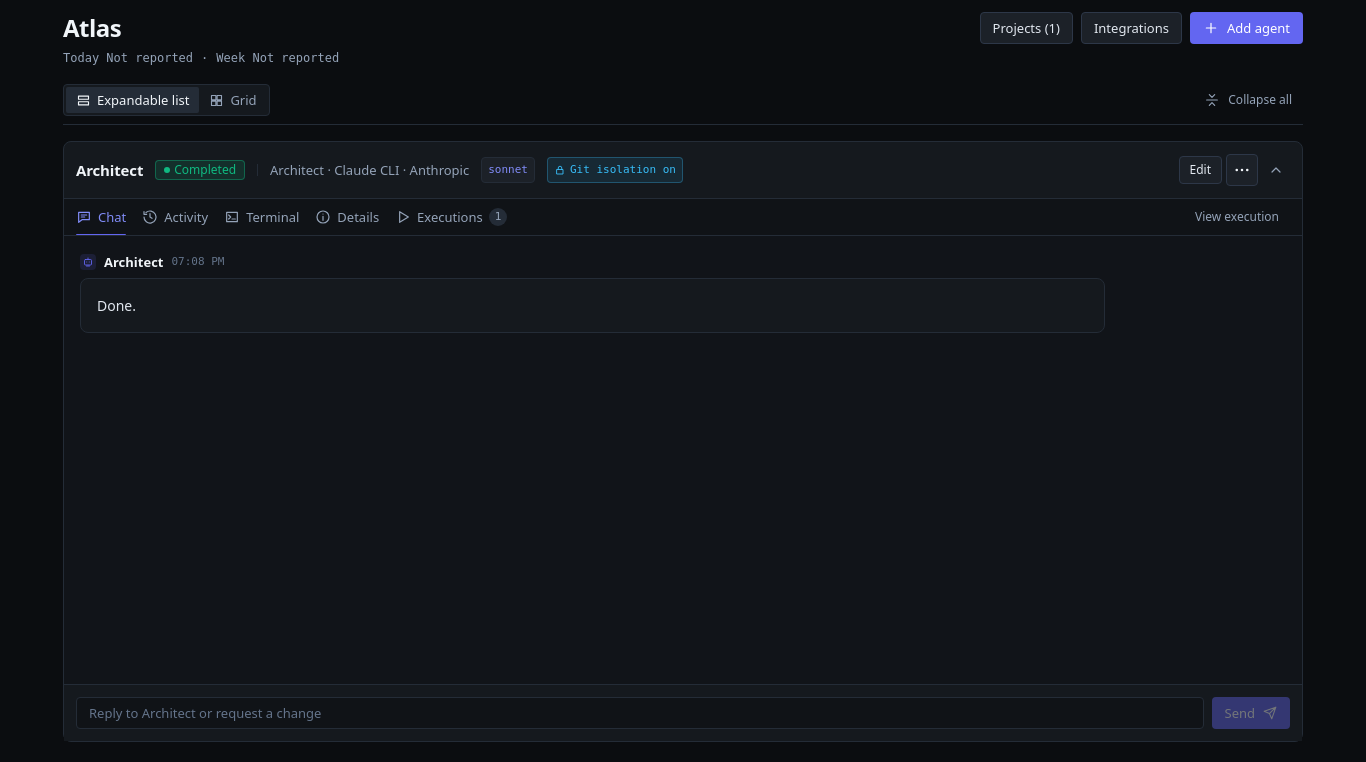
it: the execution history of an agent › offers the finished run for inspection as soon as its answer arrives
This screenshot has width=1366, height=762.
What coordinates should you click on to do the following:
click the button "View execution"
I would click on:
 (1237, 217)
Its box is x1=1184 y1=203 x2=1290 y2=231.
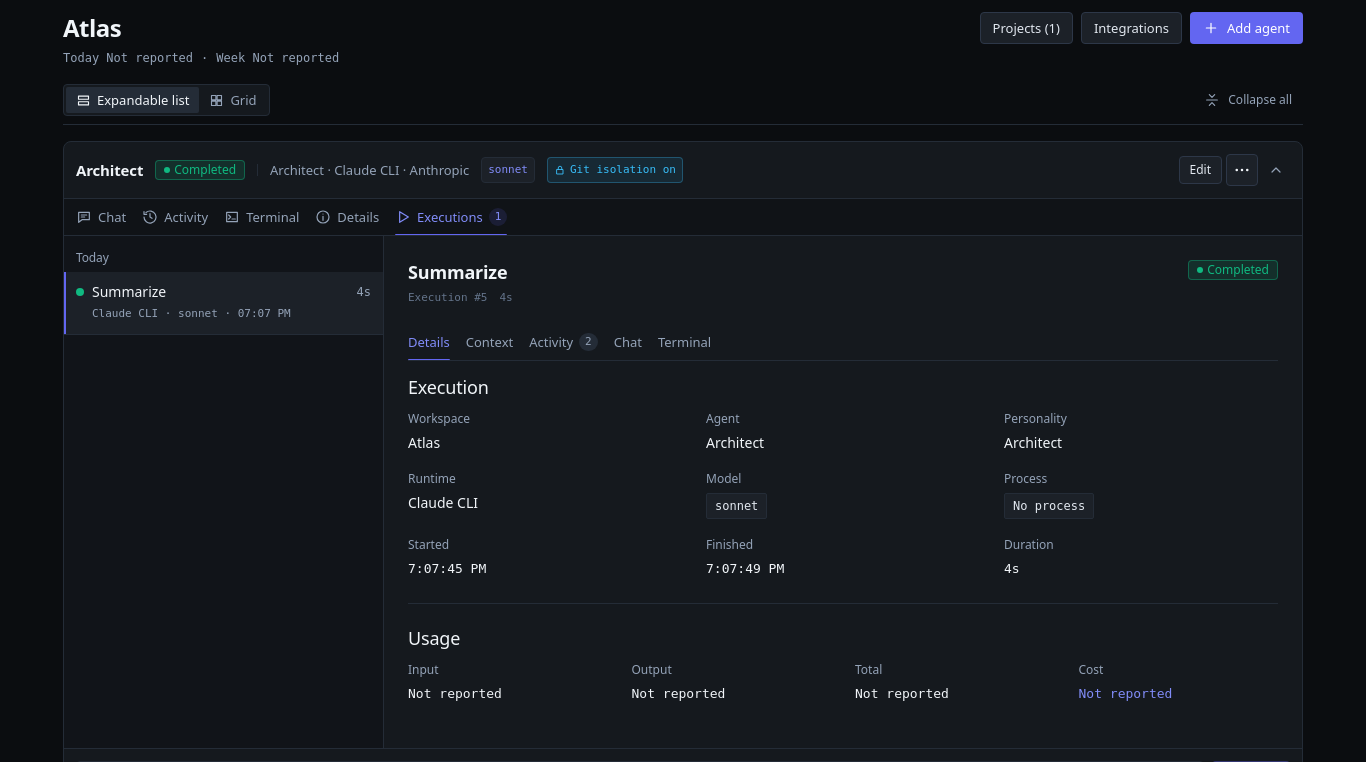
Now the element "Execution #5" is shown, box x1=384 y1=236 x2=1302 y2=728
